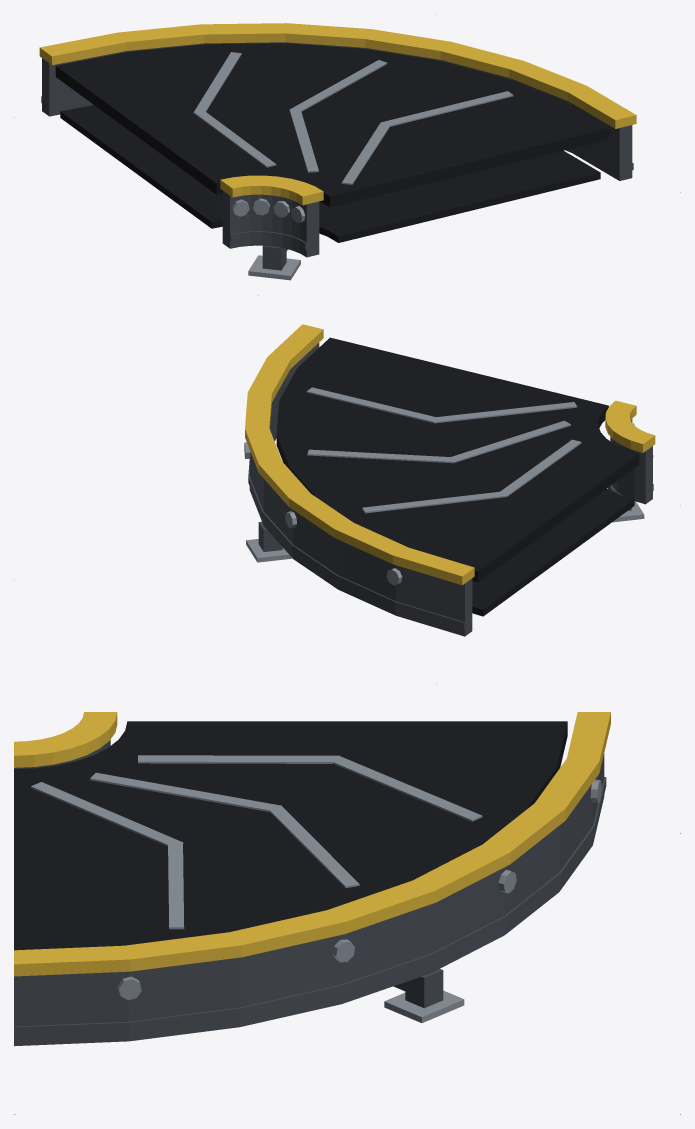
The model's file is convoyeur_virage_inverse_t1.glb.
3 views of the same model, one above another, from view 1: azimuth 30°, elevation 25°; view 2: azimuth 150°, elevation 25°; view 3: azimuth 270°, elevation 25° (orthographic). The views are drawn at different scales.
Visible parts, largest first — view 1: bande_porteuse.008, bande_retour.008, rive_1.008, bande_acier.014, longeron_1.008, longeron_-1.008, rive_-1.008, pieces_acier.016, nervure_-1.004, pieces_acier_sombre.016; view 2: bande_porteuse.008, longeron_1.008, rive_1.008, bande_retour.008, bande_acier.014, nervure_1.004, rive_-1.008, longeron_-1.008, pieces_acier.016; view 3: bande_porteuse.008, longeron_1.008, rive_1.008, bande_acier.014, nervure_1.004, rive_-1.008, pieces_acier.016, pieces_acier_sombre.016.
Boxes of the visible parts, x1,y1,x2,y2 form: bande_porteuse.008: [55, 43, 608, 207]; bande_retour.008: [60, 105, 600, 242]; rive_1.008: [39, 23, 636, 128]; bande_acier.014: [193, 52, 513, 184]; longeron_1.008: [42, 42, 632, 180]; longeron_-1.008: [222, 190, 319, 257]; rive_-1.008: [220, 175, 323, 205]; pieces_acier.016: [232, 198, 305, 280]; nervure_-1.004: [230, 231, 307, 249]; pieces_acier_sombre.016: [262, 245, 287, 270]; bande_porteuse.008: [276, 337, 639, 582]; longeron_1.008: [249, 342, 472, 636]; rive_1.008: [245, 324, 474, 585]; bande_retour.008: [472, 488, 634, 616]; bande_acier.014: [306, 387, 581, 513]; nervure_1.004: [248, 461, 465, 629]; rive_-1.008: [605, 400, 655, 452]; longeron_-1.008: [610, 419, 652, 504]; pieces_acier.016: [244, 423, 653, 585]; bande_porteuse.008: [14, 721, 567, 950]; longeron_1.008: [14, 753, 604, 1046]; rive_1.008: [14, 712, 610, 976]; bande_acier.014: [31, 755, 482, 929]; nervure_1.004: [14, 777, 606, 1036]; rive_-1.008: [14, 712, 117, 767]; pieces_acier.016: [118, 779, 601, 1022]; pieces_acier_sombre.016: [393, 969, 443, 1008].
Size of the model in its own units: 1 by 0.2 by 1.
